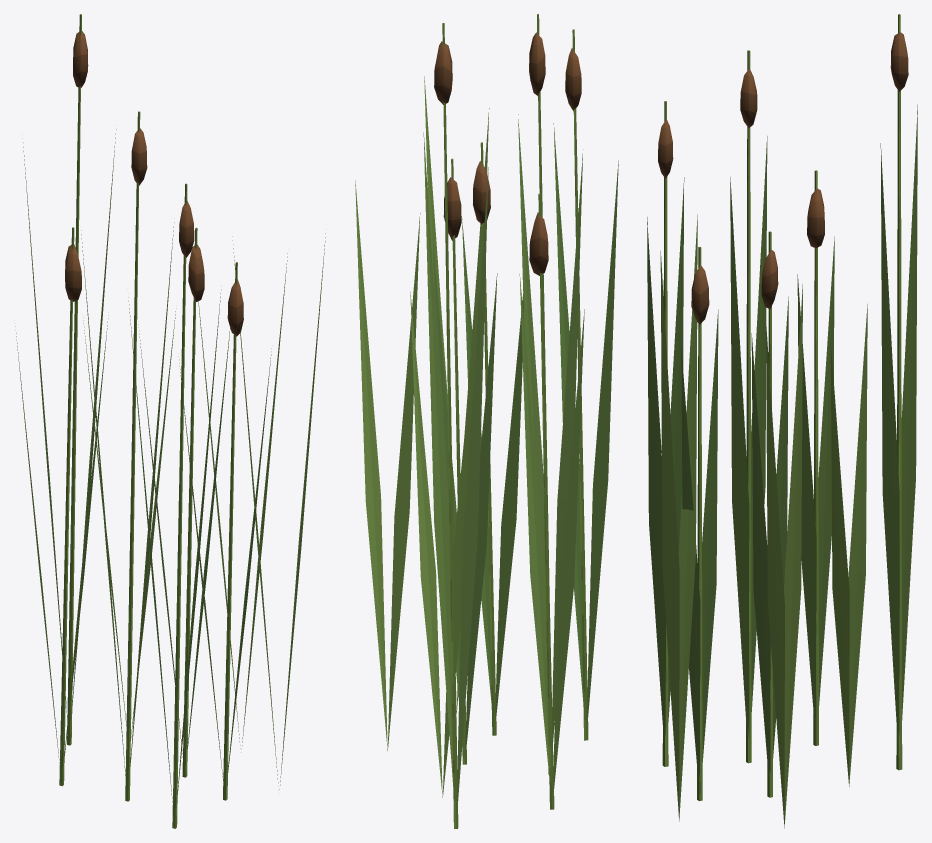
File: f_cattails.glb
The picture shows the model from 3 angles, left to right: view 1: azimuth 30°, elevation 25°; view 2: azimuth 150°, elevation 25°; view 3: azimuth 270°, elevation 25°; orthographic projection. The views are drawn at different scales.
Visible parts, largest first — view 1: f_cattails_mesh; view 2: f_cattails_mesh; view 3: f_cattails_mesh.
Part boxes in pixels (bbox=[...]): f_cattails_mesh: bbox=[15, 14, 325, 828]; f_cattails_mesh: bbox=[355, 14, 618, 828]; f_cattails_mesh: bbox=[647, 14, 917, 828].
Size of the model in its own units: 0.6282 by 1.81 by 0.5841.
1 material, 1 textured.
